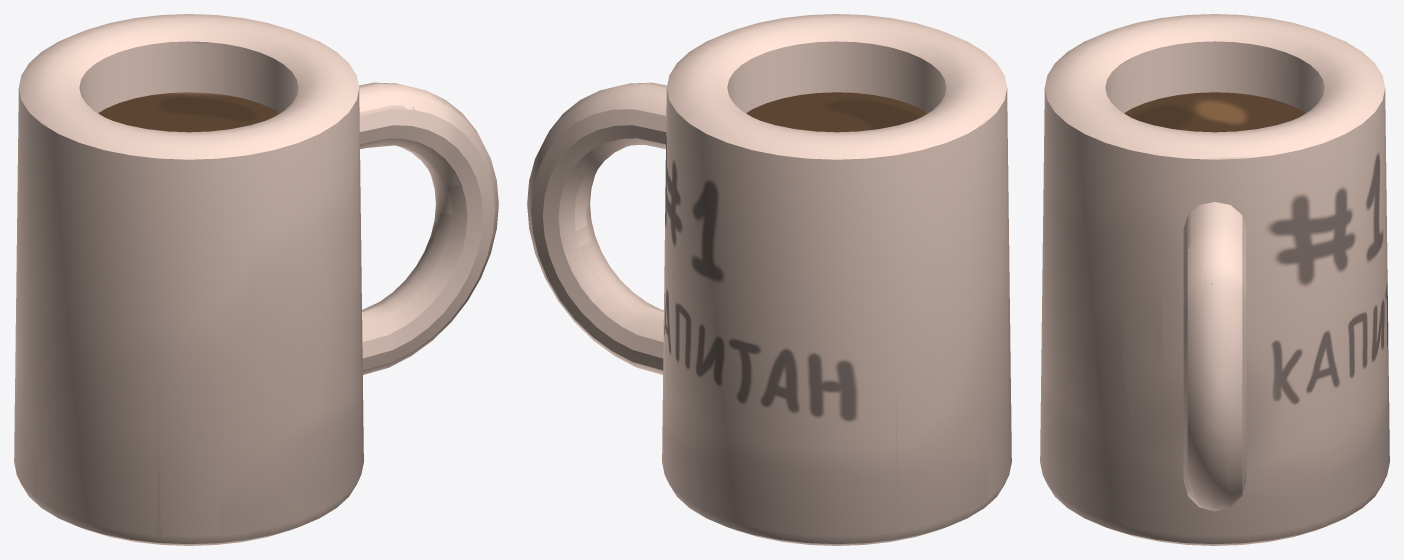
File: coffee.fbx
3 renders of one model, left to right at view 1: azimuth 30°, elevation 25°; view 2: azimuth 150°, elevation 25°; view 3: azimuth 270°, elevation 25°, orthographic.
Parts seen in each view (by area): view 1: Torus; view 2: Torus; view 3: Torus.
Part boxes in pixels (x1,y1,x2,y2): Torus: (14,14,498,545); Torus: (527,14,1011,545); Torus: (1040,14,1389,545).
Size of the model in its own units: 604 by 510 by 400.
Materials: 1 (1 with a texture image).
